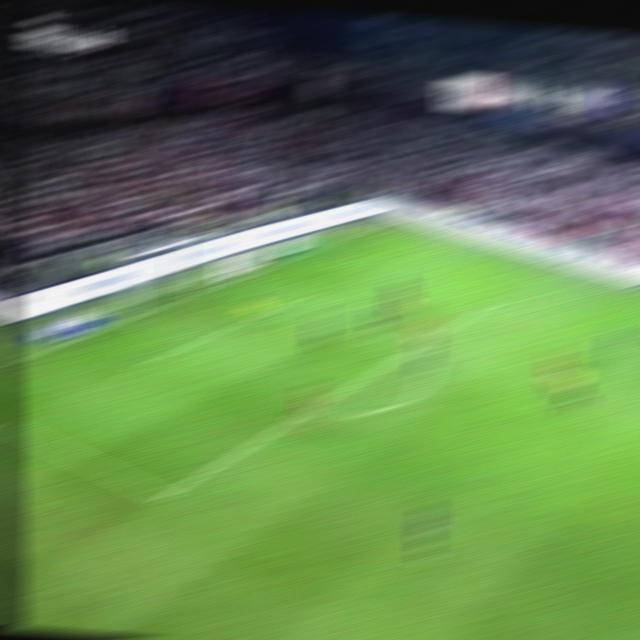bigarea_bottom_inner: (148, 485, 179, 505)
bigarea_top_inner: (474, 295, 505, 314)
bigarea_top_outter: (305, 243, 330, 255)
bottom_arc_area_intersection: (289, 408, 315, 421)
corner: (376, 216, 405, 227)
smallarea_bottom_inner: (126, 352, 156, 374)
smallarea_bottom_outter: (64, 331, 92, 345)
smallarea_top_inner: (285, 290, 310, 303)
smallarea_top_outter: (231, 270, 256, 282)
top_arc_area_intersection: (400, 341, 428, 356)
